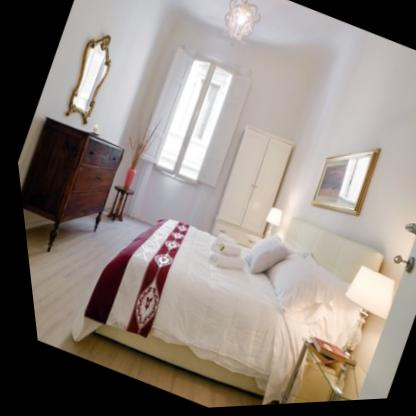Sideboard: (17, 120, 121, 252)
Window: (135, 42, 253, 190)
